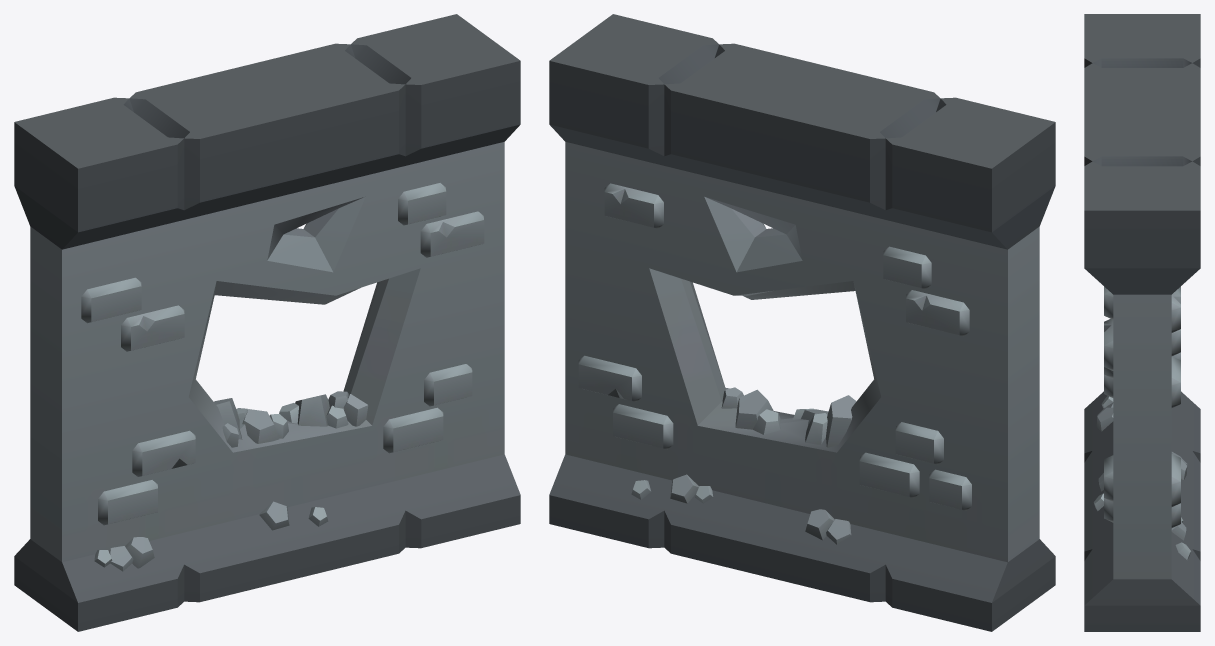
Rendered from wall-broken-gltf.glb.
3 views of the same model, side by side, from view 1: azimuth 30°, elevation 25°; view 2: azimuth 150°, elevation 25°; view 3: azimuth 270°, elevation 25° (orthographic). The views are drawn at different scales.
Visible parts, largest first — view 1: wall_broken; view 2: wall_broken; view 3: wall_broken.
Boxes of the visible parts, left/top/right/bottom form: wall_broken: left=14, top=14, right=520, bottom=631; wall_broken: left=549, top=14, right=1055, bottom=631; wall_broken: left=1084, top=14, right=1200, bottom=631.
Size of the model in its own units: 4 by 4 by 1.
1 material, 1 textured.
